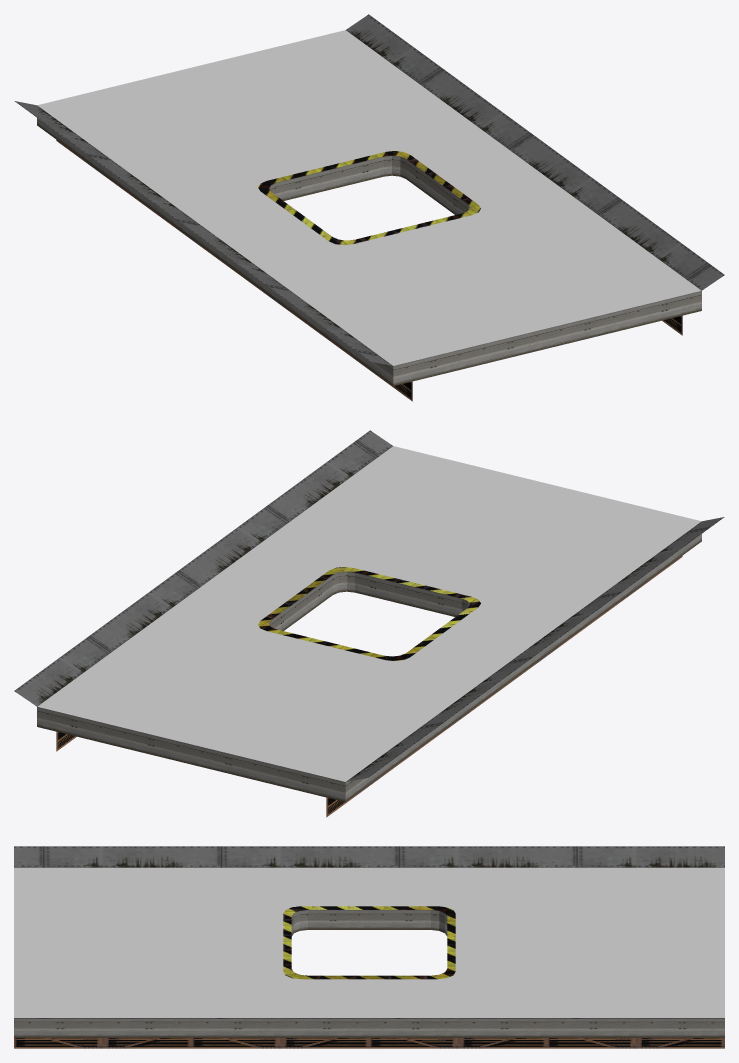
File: Chicane3.fbx
The picture shows the model from 3 angles, top to bottom: view 1: azimuth 30°, elevation 25°; view 2: azimuth 150°, elevation 25°; view 3: azimuth 270°, elevation 25°; orthographic projection.
Visible parts, largest first — view 1: Empty_Mesh; view 2: Empty_Mesh; view 3: Empty_Mesh.
Boxes of the visible parts, x1,y1,x2,y2 form: Empty_Mesh: (14, 14, 724, 401); Empty_Mesh: (14, 430, 724, 817); Empty_Mesh: (14, 846, 724, 1048).
Size of the model in its own units: 18.4 by 2.5 by 32.
